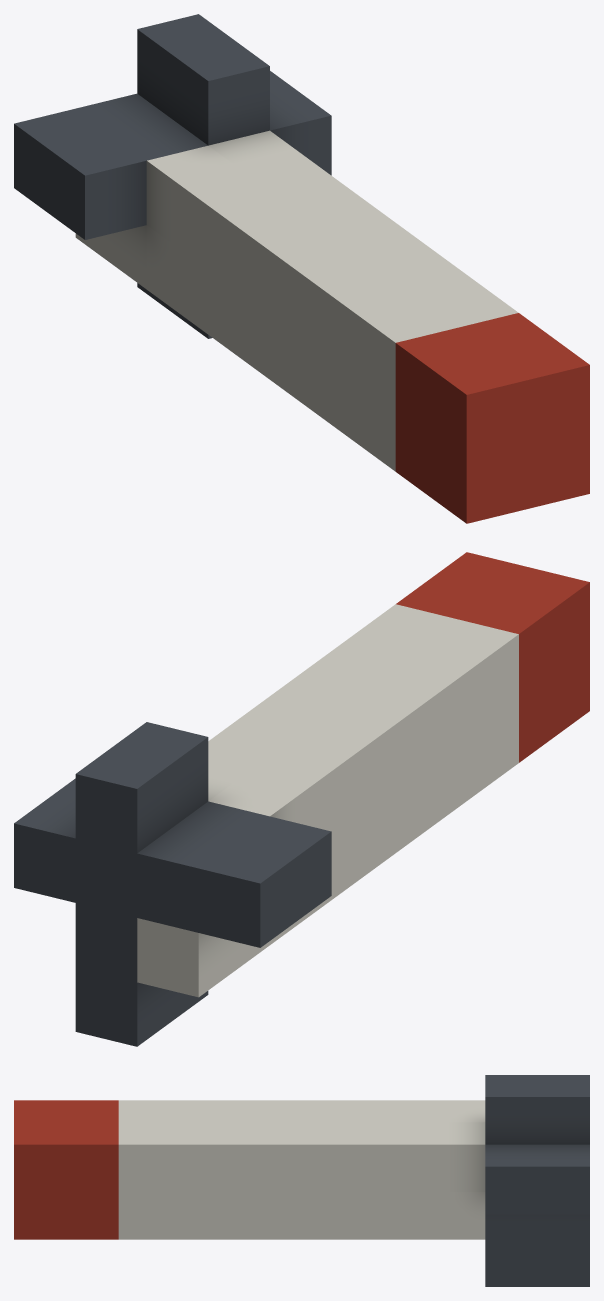
File: cm_rocket.glb
3 renders of one model, top to bottom at view 1: azimuth 30°, elevation 25°; view 2: azimuth 150°, elevation 25°; view 3: azimuth 270°, elevation 25°, orthographic. The views are drawn at different scales.
Parts seen in each view (by area): view 1: cm_rocket_body; view 2: cm_rocket_body; view 3: cm_rocket_body.
Part boxes in pixels (box(x1,y1,x2,y2)): cm_rocket_body: box(14, 14, 589, 523); cm_rocket_body: box(14, 552, 589, 1046); cm_rocket_body: box(14, 1075, 589, 1286).
Size of the model in its own units: 0.25 by 0.25 by 0.6875.
1 material, 1 textured.
